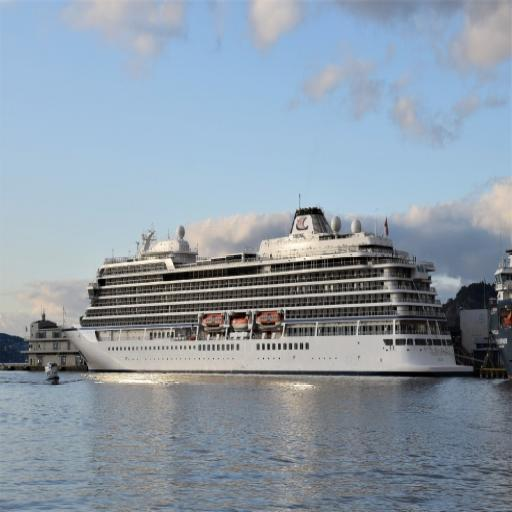cruises: (59, 204, 477, 384)
